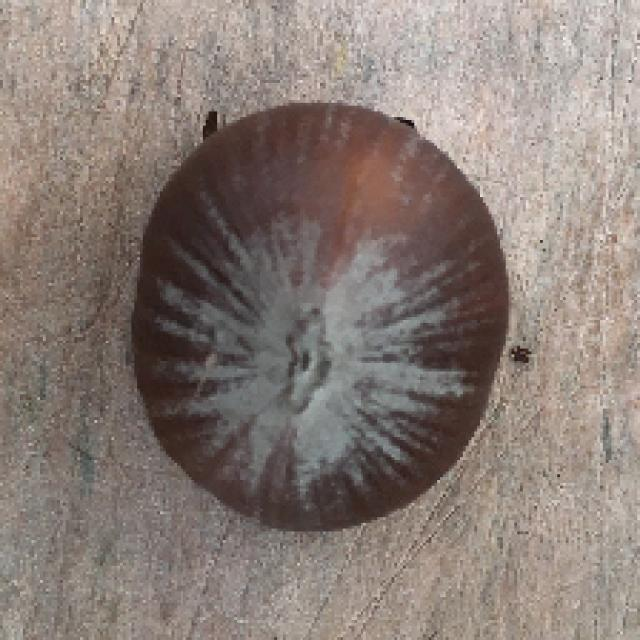damagedHazelnut: (141, 99, 508, 531)
